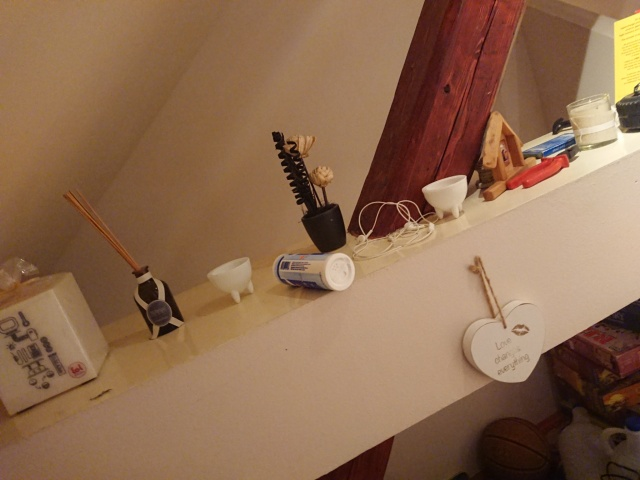Solana Pag Fine Sea Salt 250g: (271, 251, 357, 293)
